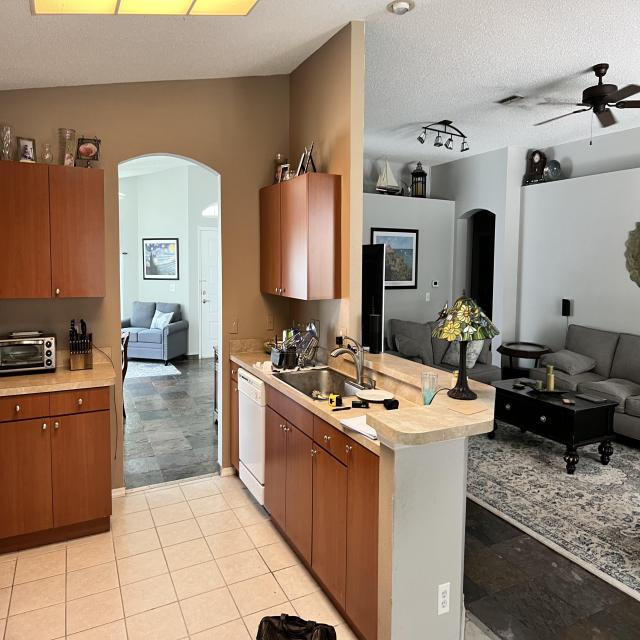Appliance_Dishwasher: (239, 368, 266, 506)
Appliance_Sink: (274, 337, 363, 399)
Cabinet_Flat: (261, 379, 379, 640), (0, 387, 111, 558), (0, 162, 106, 300), (259, 174, 309, 302), (228, 360, 242, 467)
Countertop_Laminate: (364, 352, 495, 445), (232, 355, 385, 421), (0, 351, 117, 397), (396, 397, 416, 410)
